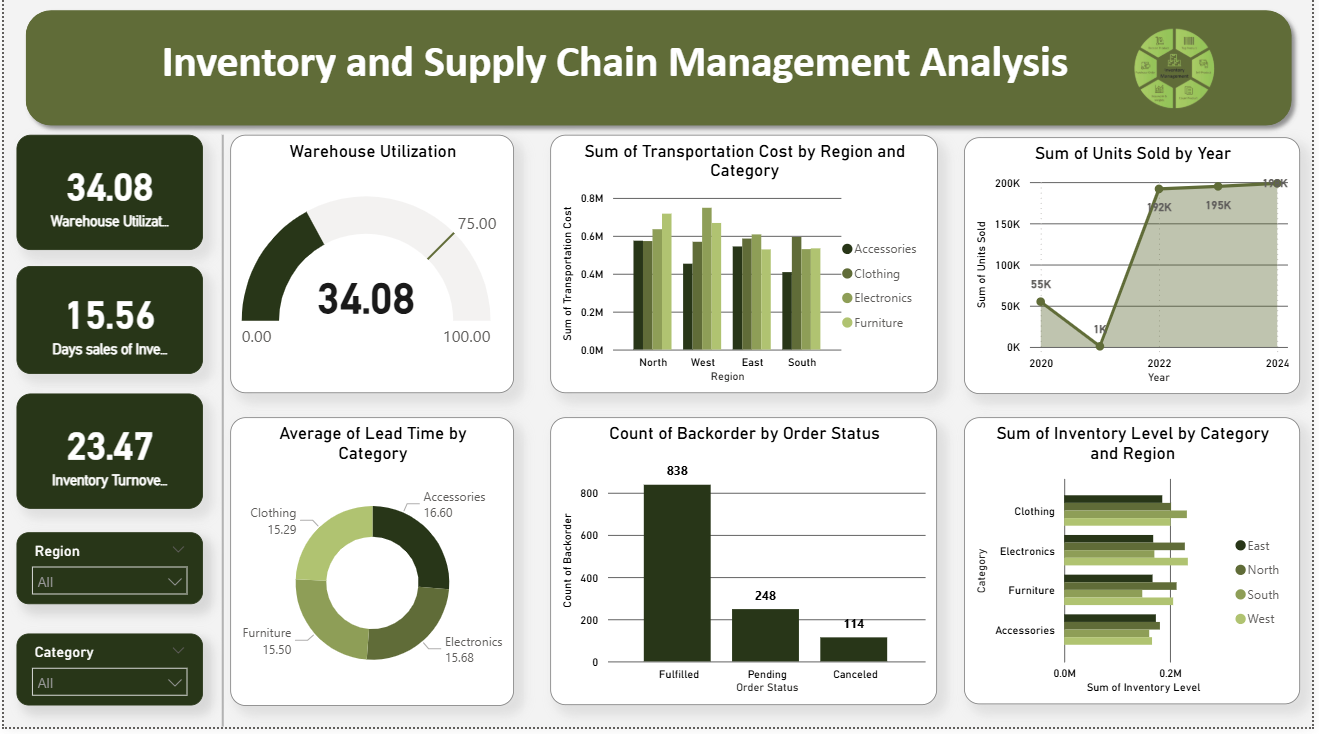

Layout of this report page (visuals, bound fields, positions):
{"tool":"powerbi","page":{"name":"Page 1","canvas":[1280,720],"ordinal":0},"visuals":[{"type":"shape","box":[11.8,10.3,1256.3,130.8],"z":0},{"type":"textbox","box":[133.7,38.2,928.7,74.9],"z":1000},{"type":"image","box":[1049.1,25,191,102.9],"z":2000},{"type":"shape","box":[207.2,141.1,14.7,578.9],"z":3000},{"type":"card","fields":{"Values":["Inventory and Supply Chain Dataset.Warehouse Utilization"]},"box":[11.8,141.1,182.2,113.1],"z":4000},{"type":"card","fields":{"Values":["Inventory and Supply Chain Dataset.Days sales of Inventory"]},"box":[11.8,268.9,182.2,105.8],"z":5000},{"type":"card","fields":{"Values":["Inventory and Supply Chain Dataset.Inventory Turnover Ratio"]},"box":[11.8,393.8,182.2,113.1],"z":6000},{"type":"slicer","fields":{"Values":["Inventory and Supply Chain Dataset.Region"]},"box":[11.8,529,182.2,70.5],"z":7000},{"type":"slicer","fields":{"Values":["Inventory and Supply Chain Dataset.Category"]},"box":[11.8,628.9,182.2,70.5],"z":8000},{"type":"gauge","fields":{"Y":["Inventory and Supply Chain Dataset.Warehouse Utilization"]},"box":[221.9,141.1,277.7,252.7],"z":9000},{"type":"clusteredColumnChart","fields":{"Y":["Sum(Inventory and Supply Chain Dataset.Transportation Cost)"],"Category":["Inventory and Supply Chain Dataset.Region"],"Series":["Inventory and Supply Chain Dataset.Category"]},"box":[534.9,141.1,379.1,252.7],"z":10000},{"type":"lineChart","fields":{"Y":["Sum(Inventory and Supply Chain Dataset.Units Sold)"],"Category":["Inventory and Supply Chain Dataset.Date.Variation.Date Hierarchy.Year"]},"box":[938.9,142.5,329.1,251.3],"z":11000},{"type":"donutChart","fields":{"Y":["Avg(Inventory and Supply Chain Dataset.Lead Time)"],"Category":["Inventory and Supply Chain Dataset.Category"]},"box":[221.9,417.3,277.7,282.1],"z":12000},{"type":"columnChart","fields":{"Y":["CountNonNull(Inventory and Supply Chain Dataset.Backorder)"],"Category":["Inventory and Supply Chain Dataset.Order Status"]},"box":[534.3,417.1,378.6,281.4],"z":13000},{"type":"clusteredBarChart","fields":{"Y":["Sum(Inventory and Supply Chain Dataset.Inventory Level)"],"Category":["Inventory and Supply Chain Dataset.Category"],"Series":["Inventory and Supply Chain Dataset.Region"]},"box":[939,417,329,281],"z":14000}]}

Visuals, with their boxes in screenshot pixels (x1, y1, x2, y2), scaled from the page's 1280x720 canvas onto the 1319x734 screenshot:
shape: 12:11:1307:144
textbox: 138:39:1095:115
image: 1081:25:1278:130
shape: 214:144:229:733
card - Inventory and Supply Chain Dataset.Warehouse Utilization: 12:144:200:259
card - Inventory and Supply Chain Dataset.Days sales of Inventory: 12:274:200:382
card - Inventory and Supply Chain Dataset.Inventory Turnover Ratio: 12:401:200:517
slicer - Inventory and Supply Chain Dataset.Region: 12:539:200:611
slicer - Inventory and Supply Chain Dataset.Category: 12:641:200:713
gauge - Inventory and Supply Chain Dataset.Warehouse Utilization: 229:144:515:401
clusteredColumnChart - Sum(Inventory and Supply Chain Dataset.Transportation Cost) x Inventory and Supply Chain Dataset.Region: 551:144:942:401
lineChart - Sum(Inventory and Supply Chain Dataset.Units Sold) x Inventory and Supply Chain Dataset.Date.Variation.Date Hierarchy.Year: 968:145:1307:401
donutChart - Avg(Inventory and Supply Chain Dataset.Lead Time) x Inventory and Supply Chain Dataset.Category: 229:425:515:713
columnChart - CountNonNull(Inventory and Supply Chain Dataset.Backorder) x Inventory and Supply Chain Dataset.Order Status: 551:425:941:712
clusteredBarChart - Sum(Inventory and Supply Chain Dataset.Inventory Level) x Inventory and Supply Chain Dataset.Category: 968:425:1307:712
